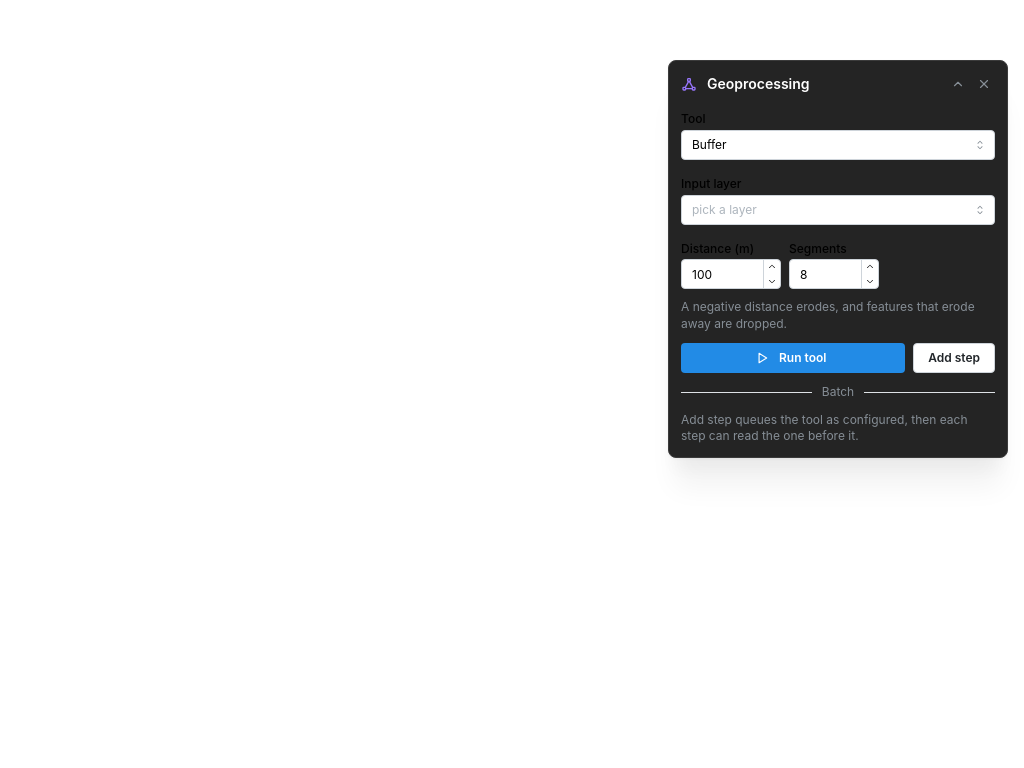
Test: running a tool › reports the failure instead of a layer
Step 1. Click the field labelled "Input layer" → (838, 210), box [681, 195, 995, 225]
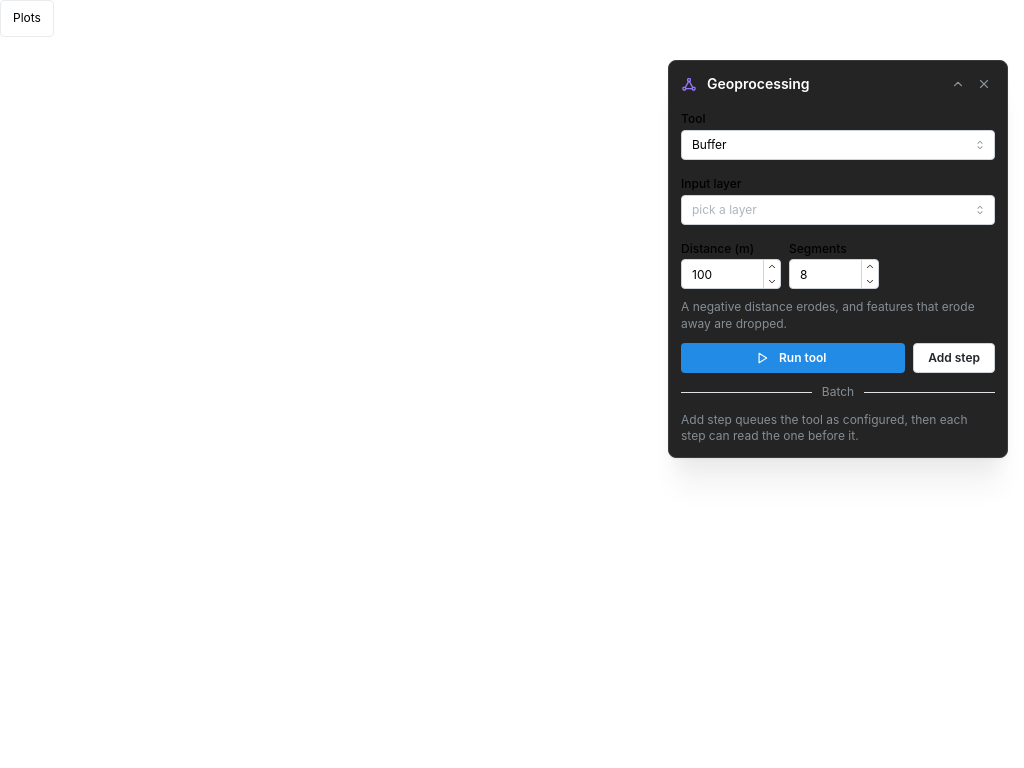
Step 2. Click the option "Plots" → (27, 18), box [13, 10, 41, 25]
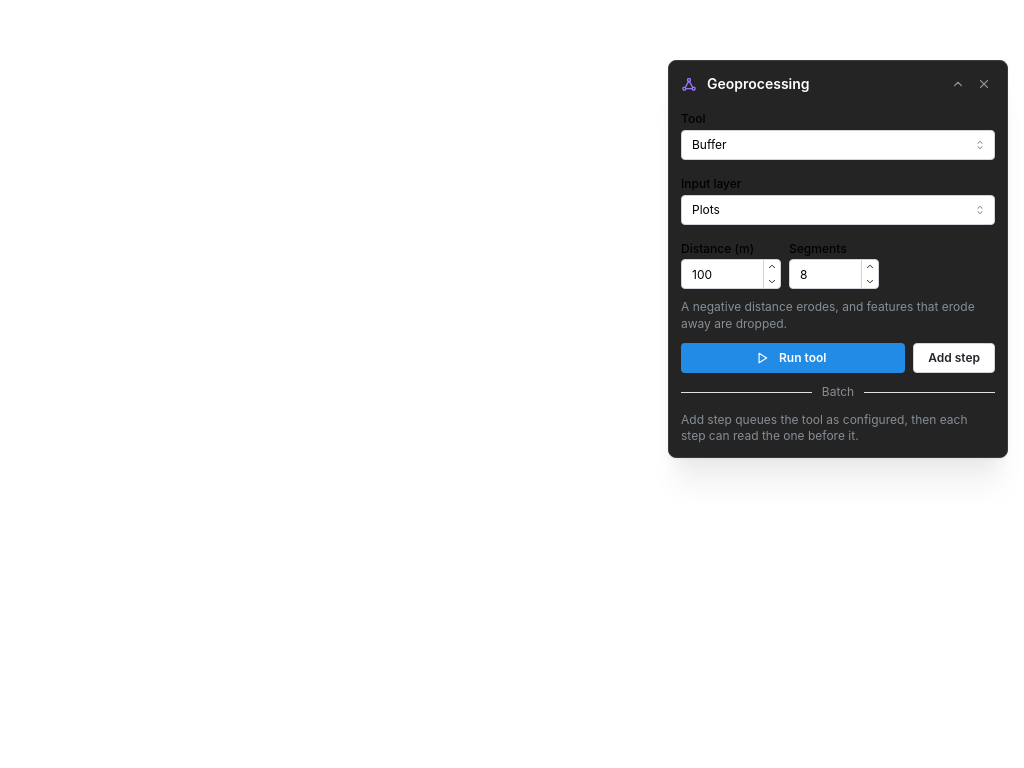
Step 3. Click the button "Run tool" → (793, 358), box [681, 343, 905, 373]
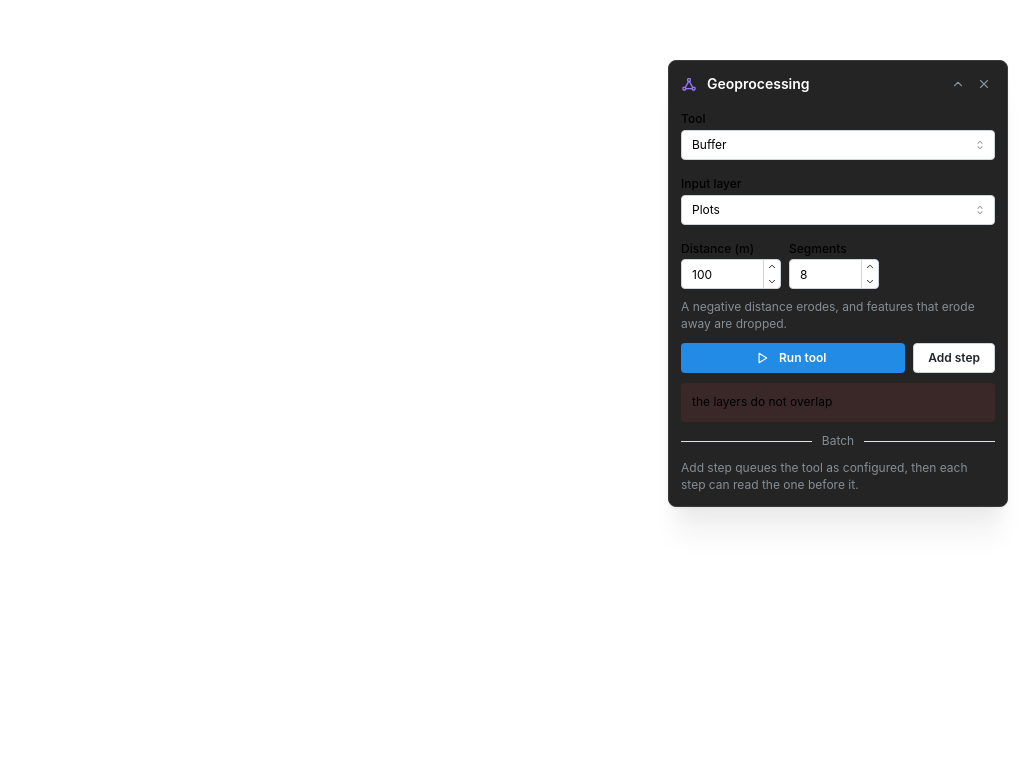
Expected: the text "the layers do not overlap" is shown, [692, 394, 832, 409]
